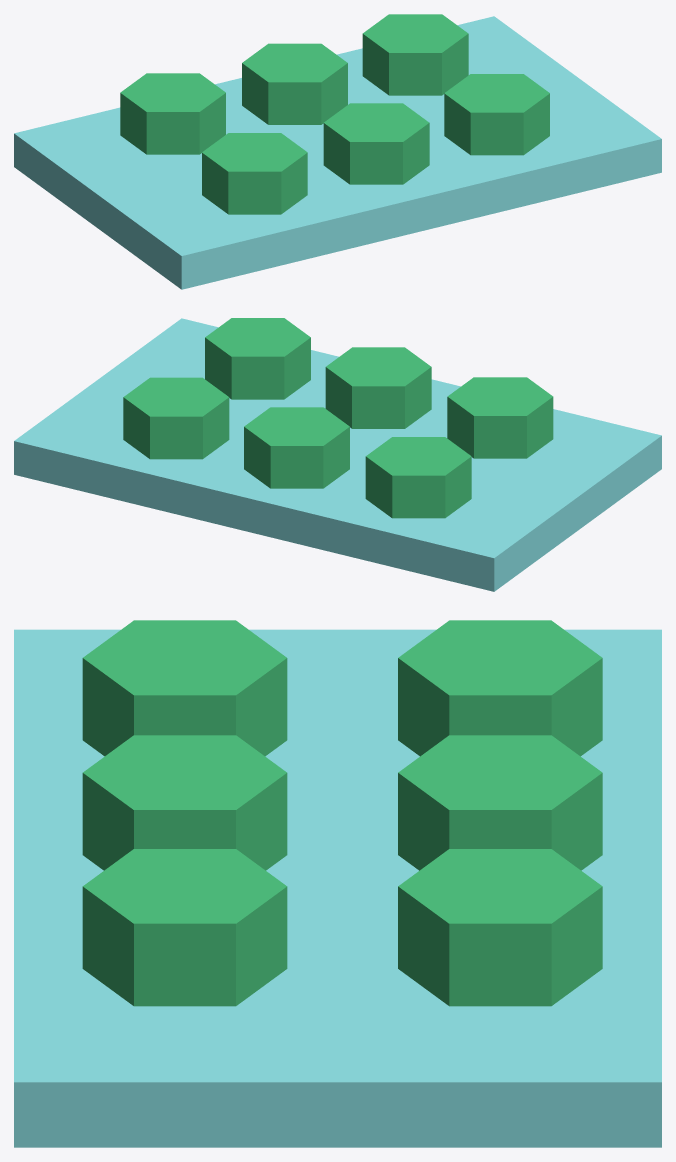
File: Pills Green.fbx
3 renders of one model, top to bottom at view 1: azimuth 30°, elevation 25°; view 2: azimuth 150°, elevation 25°; view 3: azimuth 270°, elevation 25°, orthographic. The views are drawn at different scales.
Visible parts, largest first — view 1: Pills Green; view 2: Pills Green; view 3: Pills Green.
Boxes of the visible parts, <box> form: Pills Green: <box>14,14,661,289</box>; Pills Green: <box>14,318,661,591</box>; Pills Green: <box>14,620,661,1147</box>.
Bounding box in the file's own units: 33.43 × 5.08 × 20.22.
